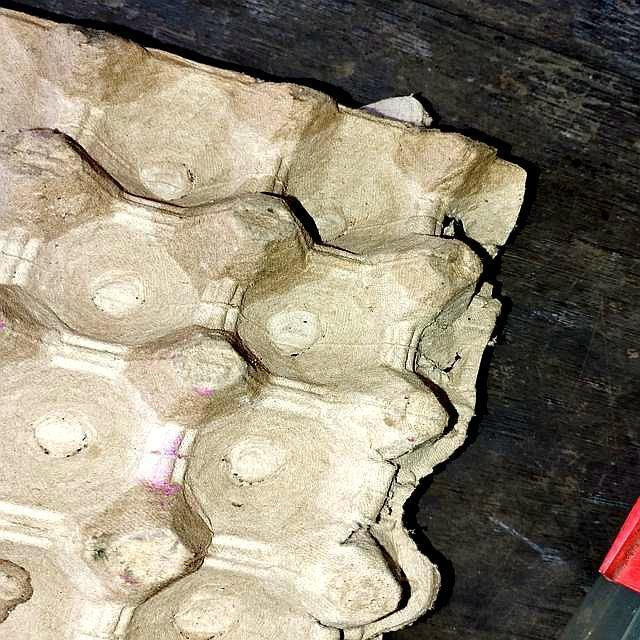Biodegradable: (1, 6, 532, 640)
